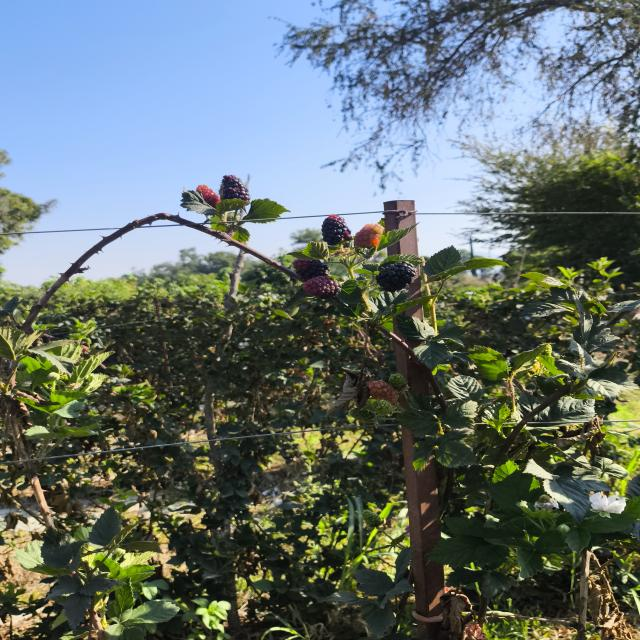maduro: (376, 261, 417, 292)
marron: (321, 215, 351, 245), (291, 259, 329, 281), (303, 276, 341, 298), (220, 175, 250, 202)
naranja: (354, 223, 384, 249), (369, 381, 397, 404), (196, 185, 220, 207)
verde: (348, 408, 376, 424), (369, 400, 394, 416), (389, 373, 407, 391)
